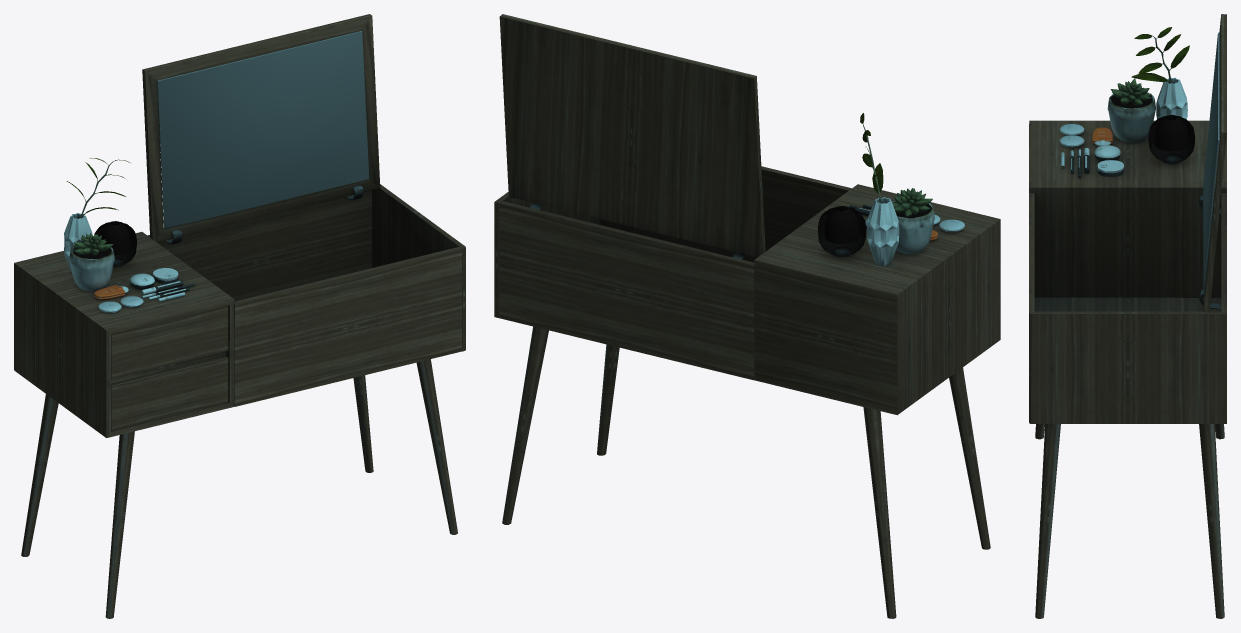
The model's file is table_table_d47fdbb0-1d01-51bc-bfcb-0f8b869bac20.glb.
The picture shows the model from 3 angles, left to right: view 1: azimuth 30°, elevation 25°; view 2: azimuth 150°, elevation 25°; view 3: azimuth 270°, elevation 25°; orthographic projection. The views are drawn at different scales.
Visible parts, largest first — view 1: raw_model.obj; view 2: raw_model.obj; view 3: raw_model.obj.
Part boxes in pixels (x1,y1,x2,y2): raw_model.obj: (14, 14, 465, 618); raw_model.obj: (494, 14, 1000, 618); raw_model.obj: (1029, 14, 1226, 618).
Bounding box in the file's own units: 0.9341 × 1.13 × 0.4155.
Materials: 1 (1 with a texture image).
